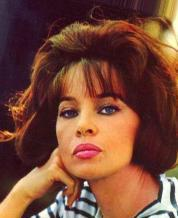face: (57, 96, 122, 161)
